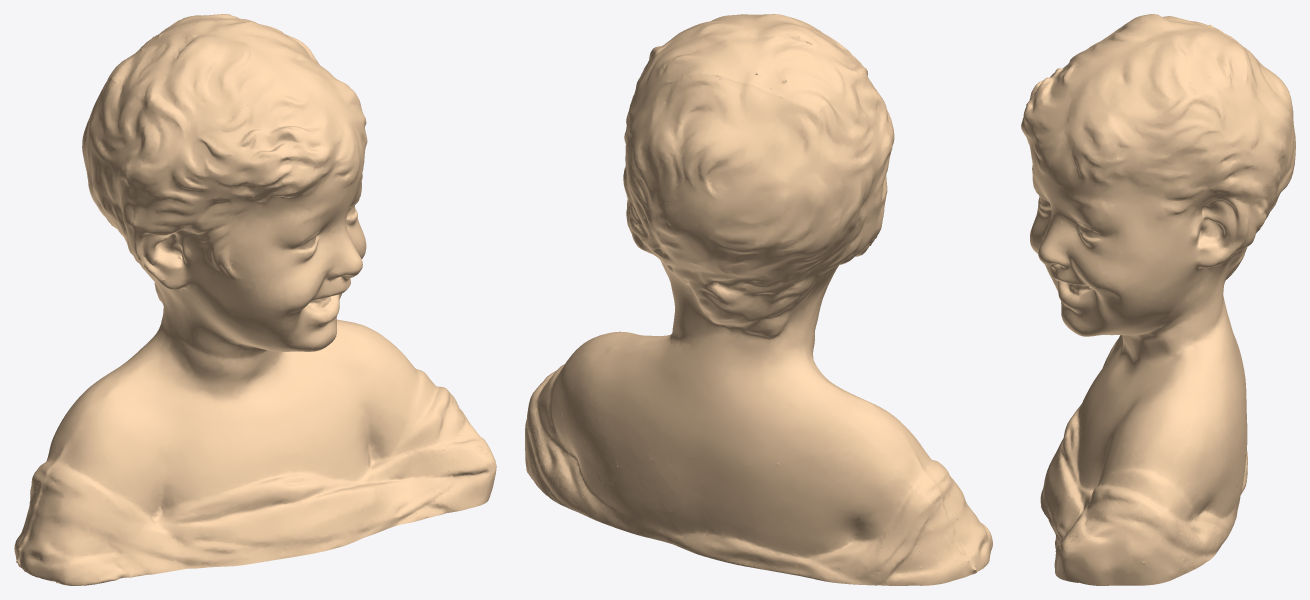
File: 石膏头像_男童_表情_Bust of the laughing child.glb
The picture shows the model from 3 angles, left to right: view 1: azimuth 30°, elevation 25°; view 2: azimuth 150°, elevation 25°; view 3: azimuth 270°, elevation 25°; orthographic projection. The views are drawn at different scales.
Visible parts, largest first — view 1: Scene_-_Root; view 2: Scene_-_Root; view 3: Scene_-_Root.
Boxes of the visible parts, x1=… form: Scene_-_Root: x1=14, y1=14, x2=496, y2=585; Scene_-_Root: x1=525, y1=14, x2=992, y2=585; Scene_-_Root: x1=1021, y1=14, x2=1295, y2=585.
Bounding box in the file's own units: 0.3835 × 0.4 × 0.2204.
